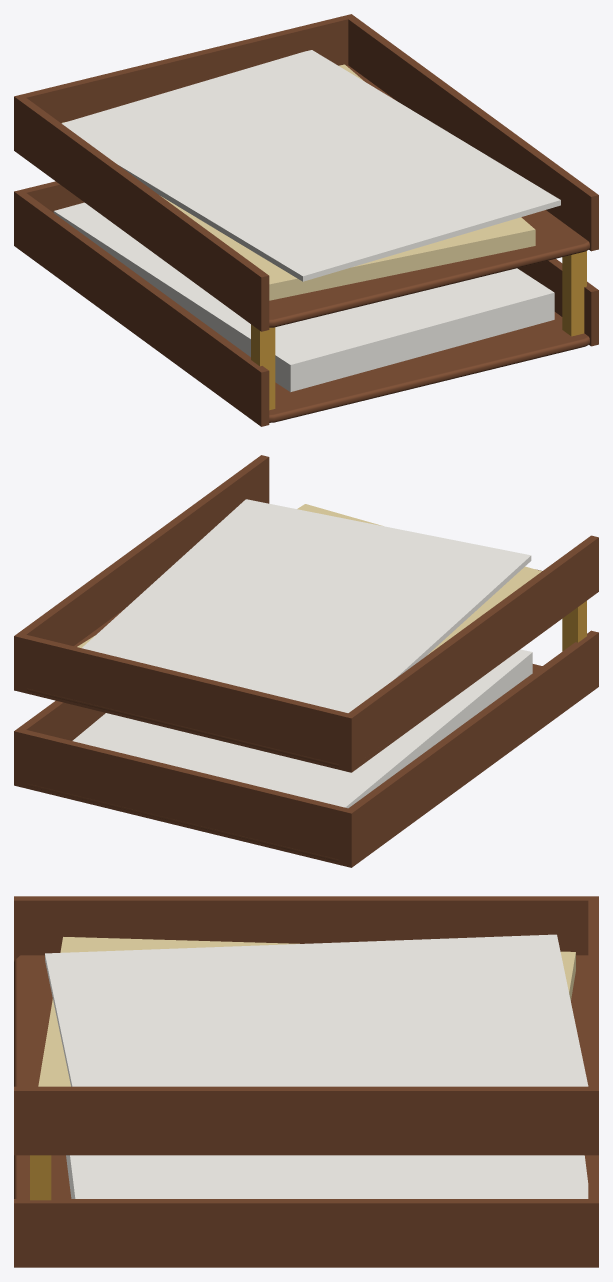
Rendered from RmInTray.fbx.
The picture shows the model from 3 angles, top to bottom: view 1: azimuth 30°, elevation 25°; view 2: azimuth 150°, elevation 25°; view 3: azimuth 270°, elevation 25°; orthographic projection. The views are drawn at different scales.
Parts seen in each view (by area): view 1: RmInTrayBody; view 2: RmInTrayBody; view 3: RmInTrayBody.
Part boxes in pixels (x1,y1,x2,y2): RmInTrayBody: [14, 14, 598, 426]; RmInTrayBody: [14, 455, 598, 867]; RmInTrayBody: [14, 896, 598, 1267].
Bounding box in the file's own units: 0.26 × 0.11 × 0.33.
